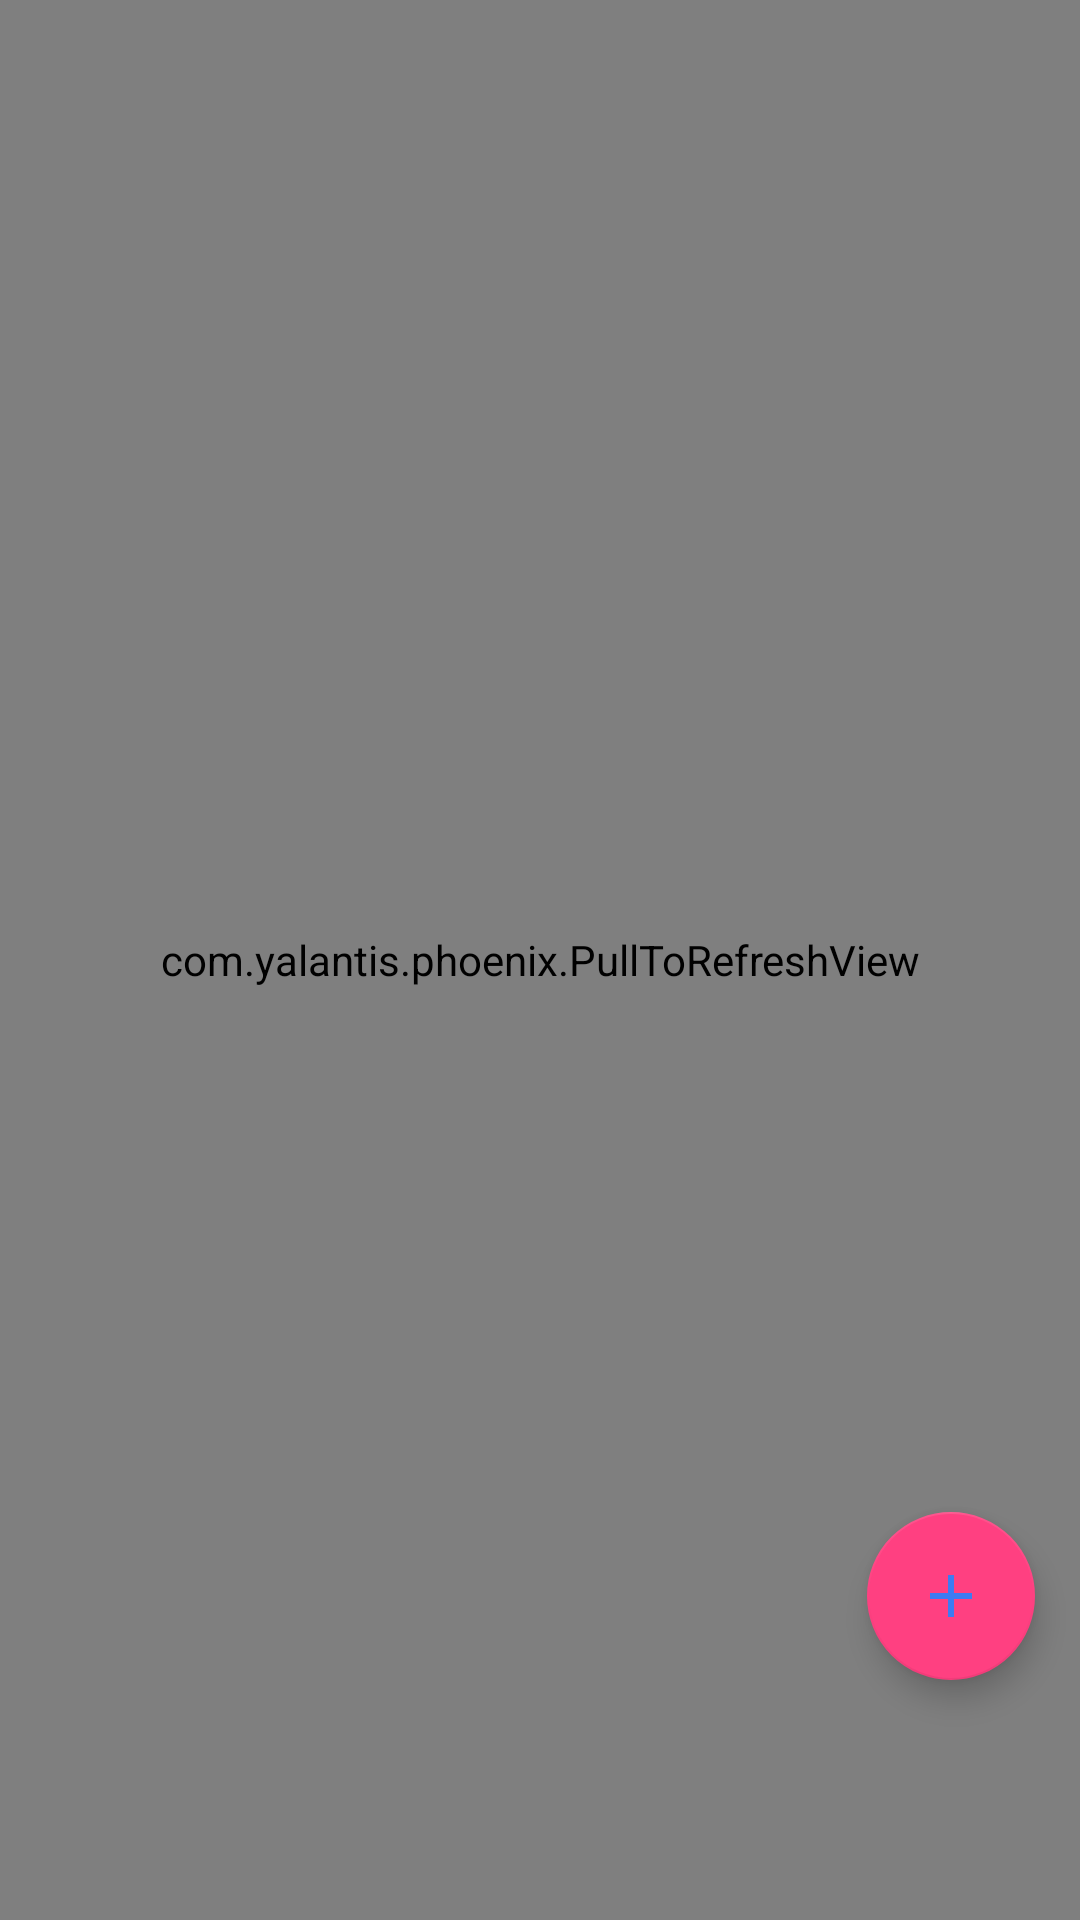

Named icons in this screenshot (1080px x 1920px) and their centers, point (x, y):
add: point (951, 1596)
